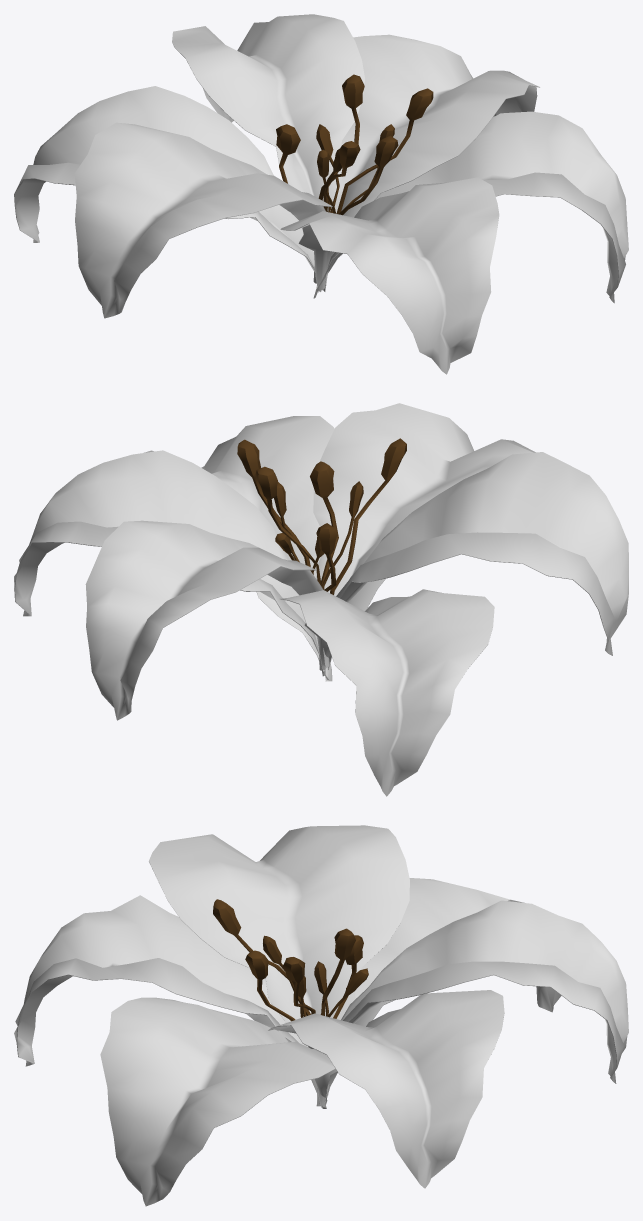
Rendered from lily.glb.
3 views of the same model, one above another, from view 1: azimuth 30°, elevation 25°; view 2: azimuth 150°, elevation 25°; view 3: azimuth 270°, elevation 25° (orthographic). The views are drawn at different scales.
Visible parts, largest first — view 1: lily; view 2: lily; view 3: lily.
Part boxes in pixels (x1=…): lily: x1=14, y1=14, x2=628, y2=374; lily: x1=14, y1=403, x2=628, y2=796; lily: x1=14, y1=825, x2=628, y2=1206.
Bounding box in the file's own units: 0.1177 × 0.045 × 0.1223.
